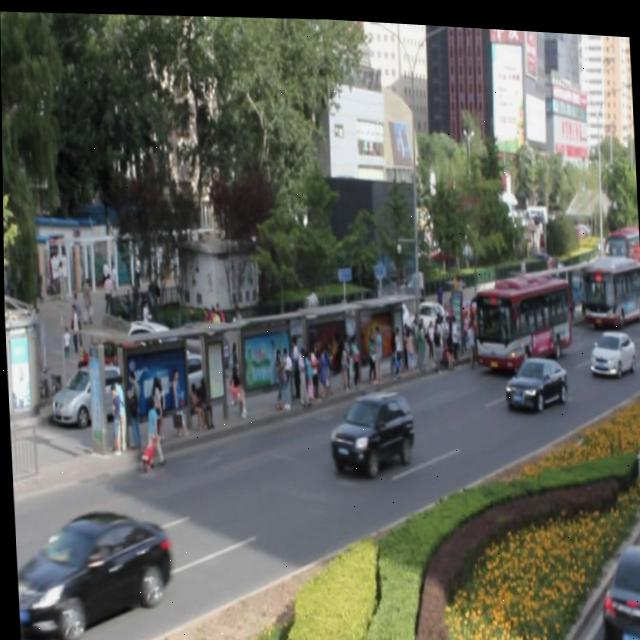car: (12, 501, 173, 640), (326, 377, 414, 471), (500, 343, 565, 404), (585, 317, 632, 369)
van: (464, 259, 566, 368)
